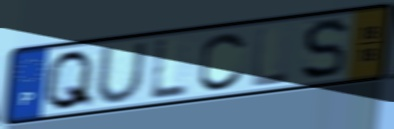C: (196, 30, 249, 93)
L: (147, 36, 190, 103), (251, 24, 291, 90)
Q: (40, 47, 97, 113)
S: (300, 16, 350, 83)
U: (94, 40, 149, 105)
